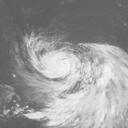cyclone: (42, 51, 79, 79)
